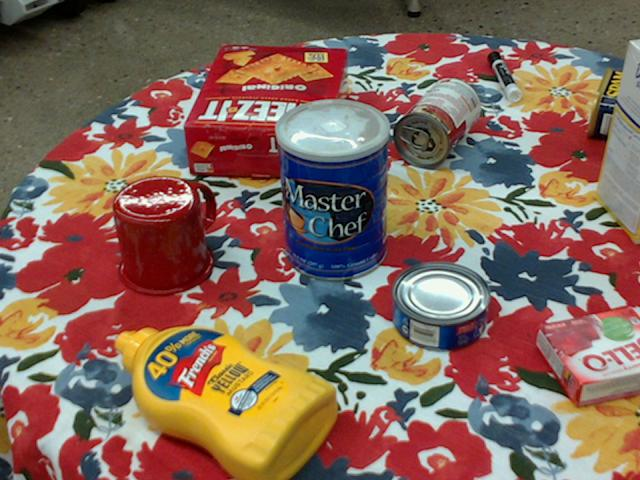cracker_box: (184, 44, 349, 179)
gelatin_box: (537, 306, 639, 406)
large_marker: (489, 50, 521, 100)
master_chef_can: (274, 98, 388, 281)
mug: (111, 175, 215, 296)
mustard_bottle: (115, 325, 339, 479)
potted_meat_can: (586, 64, 639, 142)
sugar_box: (595, 39, 639, 244)
tomato_soup_can: (394, 76, 480, 167)
tuna_fish_can: (392, 262, 491, 351)
